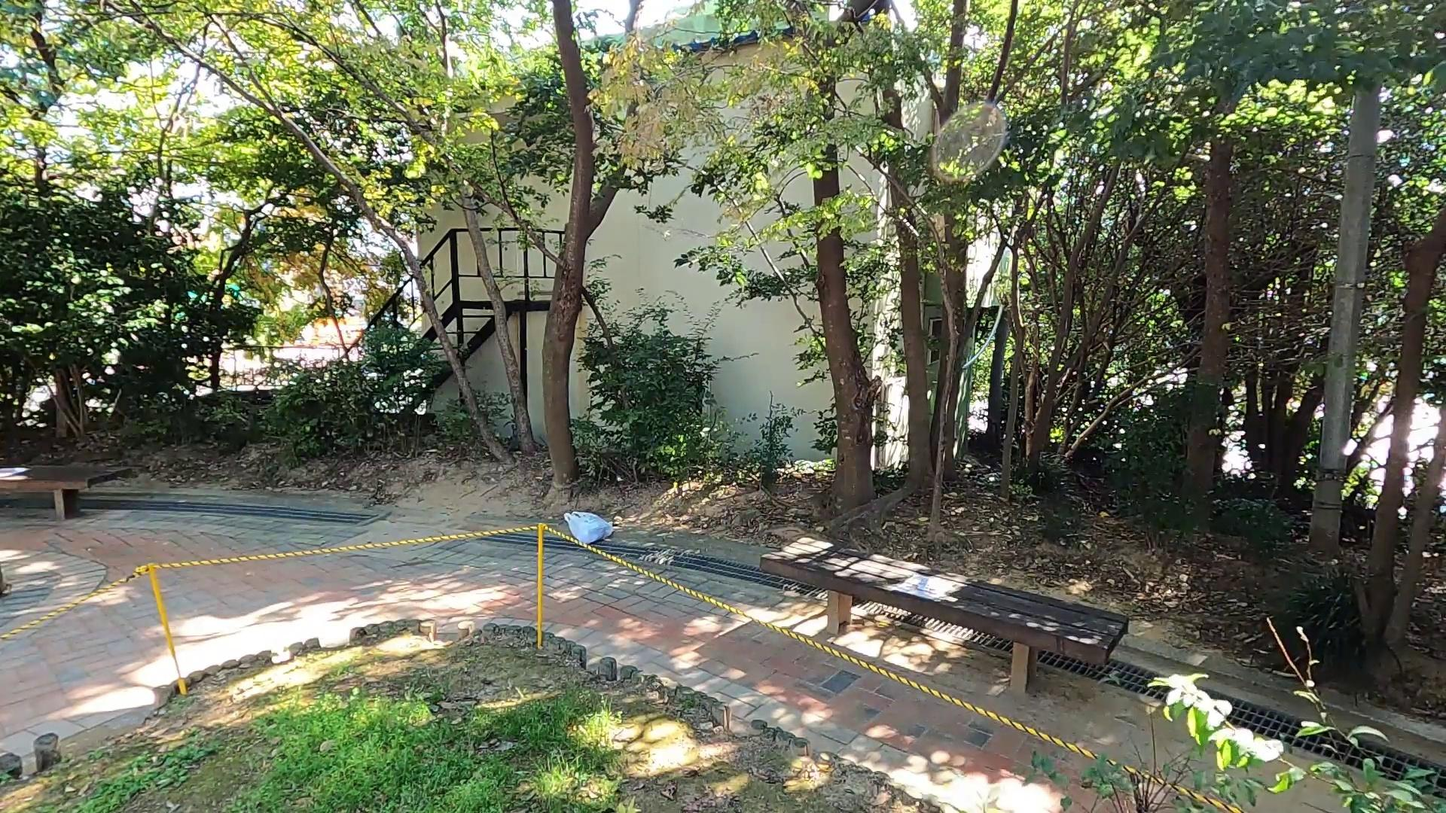trash: (563, 508, 615, 545)
